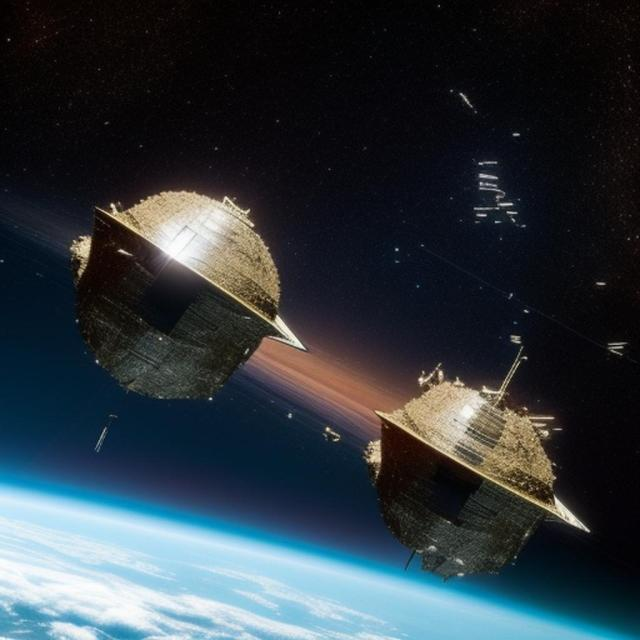large_debris: (57, 171, 316, 436), (355, 347, 601, 587), (447, 76, 546, 247), (576, 259, 640, 382), (488, 268, 542, 349), (308, 419, 353, 452), (380, 230, 420, 266)
